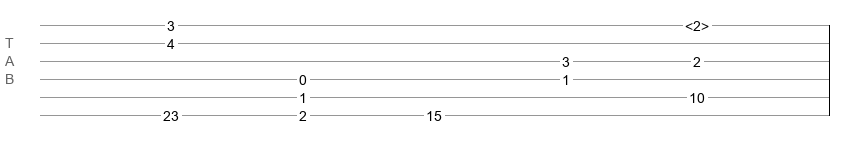0: (299, 72, 307, 82)
1: (299, 90, 307, 100), (562, 72, 570, 82)
10: (689, 90, 705, 100)
15: (426, 108, 442, 118)
2: (299, 108, 307, 118), (693, 54, 701, 64)
23: (163, 108, 179, 118)
3: (167, 18, 175, 28), (562, 54, 570, 64)
4: (167, 36, 175, 46)
harmonic: (685, 18, 709, 28)
